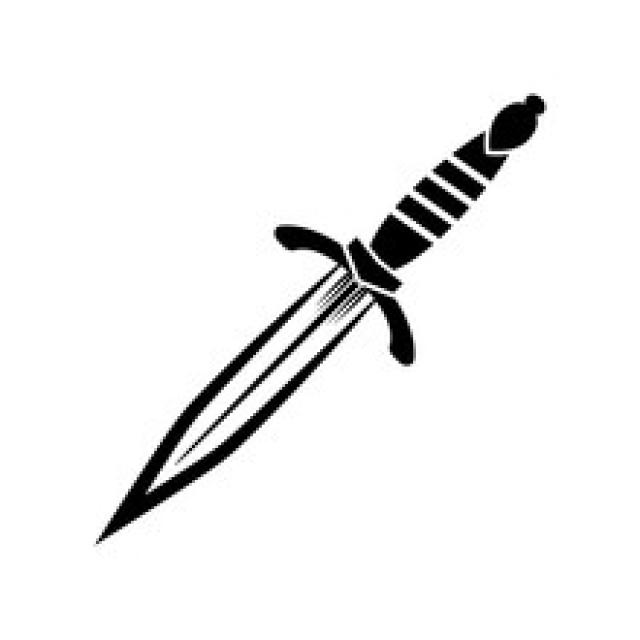Gun: (82, 89, 543, 570)
